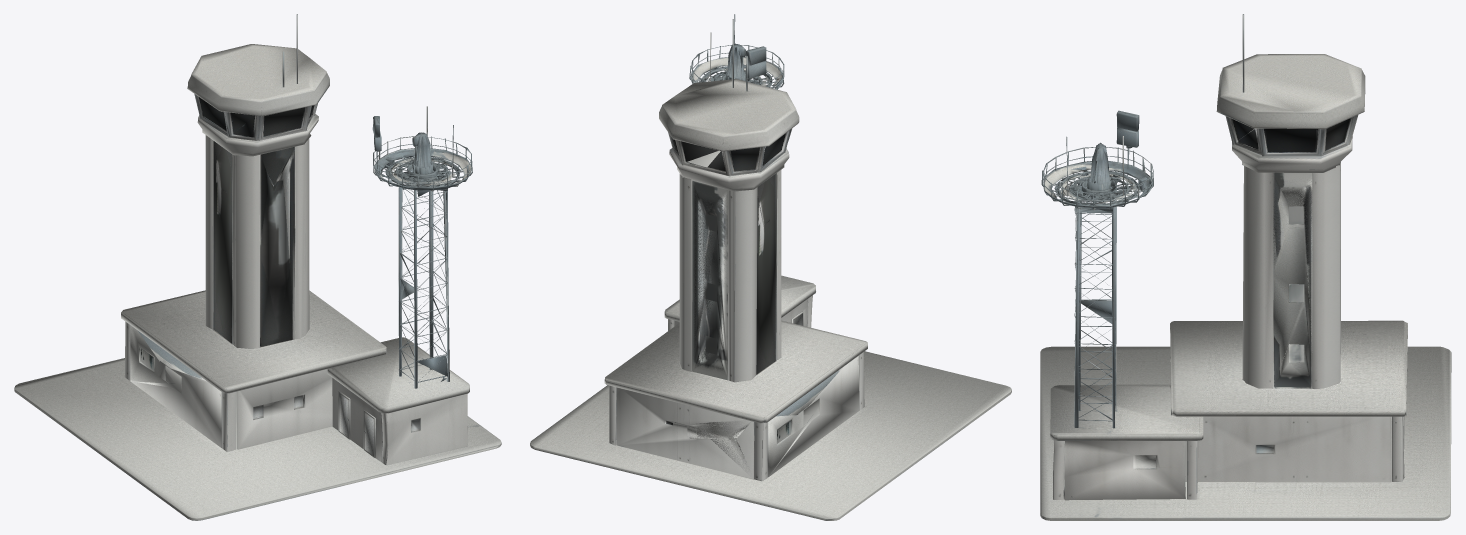
File: prop_radar.glb
3 views of the same model, side by side, from view 1: azimuth 30°, elevation 25°; view 2: azimuth 150°, elevation 25°; view 3: azimuth 270°, elevation 25° (orthographic). The views are drawn at different scales.
Parts seen in each view (by area): view 1: Mesh_0; view 2: Mesh_0; view 3: Mesh_0.
Part boxes in pixels (x1,y1,x2,y2): Mesh_0: (14, 14, 501, 520); Mesh_0: (530, 14, 1011, 520); Mesh_0: (1040, 14, 1451, 520).
Bounding box in the file's own units: 0.7891 × 0.9521 × 0.8018.
1 material, 1 textured.
